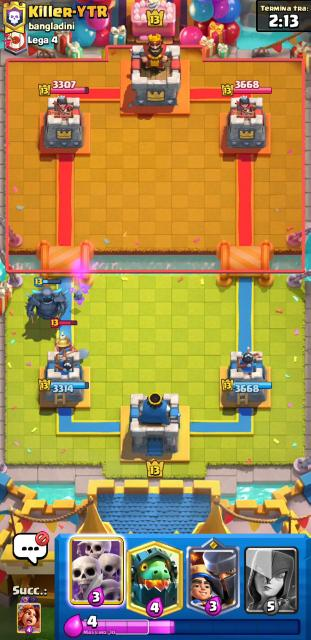ally_melee: (25, 274, 73, 325)
enemy_melee: (49, 318, 79, 351)
